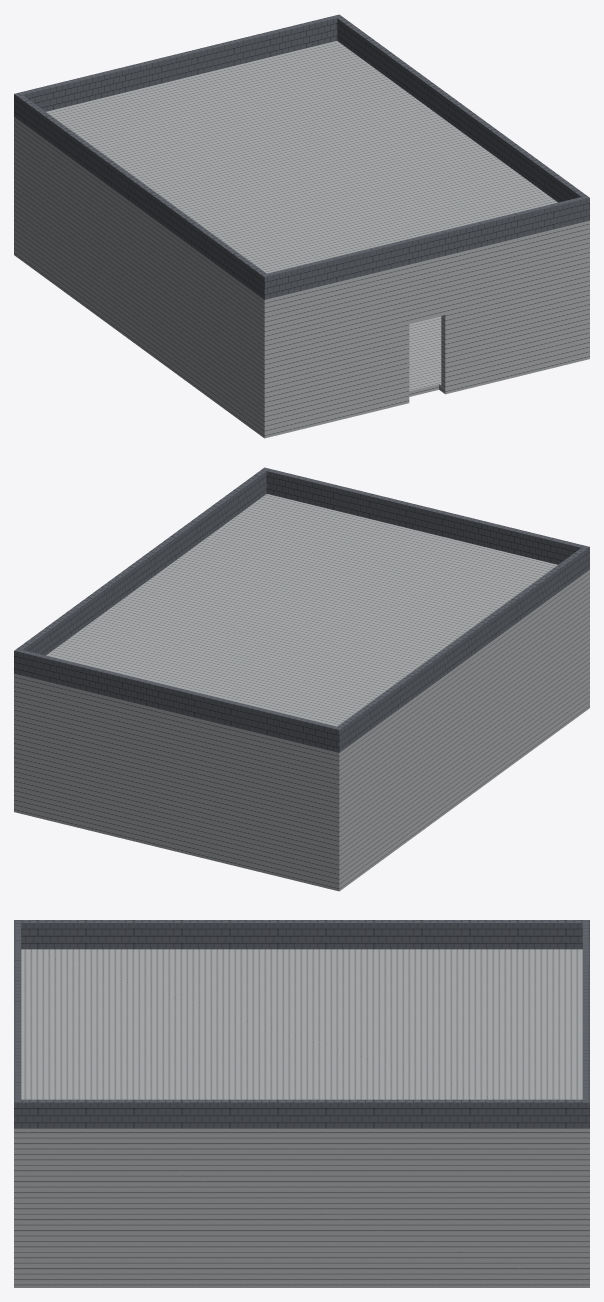
File: gas_station.glb
The picture shows the model from 3 angles, top to bottom: view 1: azimuth 30°, elevation 25°; view 2: azimuth 150°, elevation 25°; view 3: azimuth 270°, elevation 25°; orthographic projection. The views are drawn at different scales.
Parts seen in each view (by area): view 1: gas_station-col; view 2: gas_station-col; view 3: gas_station-col.
Boxes of the visible parts, bbox=[...] form: gas_station-col: bbox=[14, 14, 589, 438]; gas_station-col: bbox=[14, 467, 589, 891]; gas_station-col: bbox=[14, 920, 589, 1287].
Bounding box in the file's own units: 9 × 4.26 × 12.
2 materials, 2 textured.
